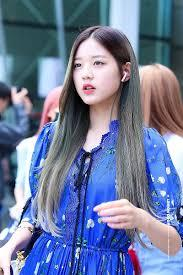earphone: (115, 72, 131, 82)
